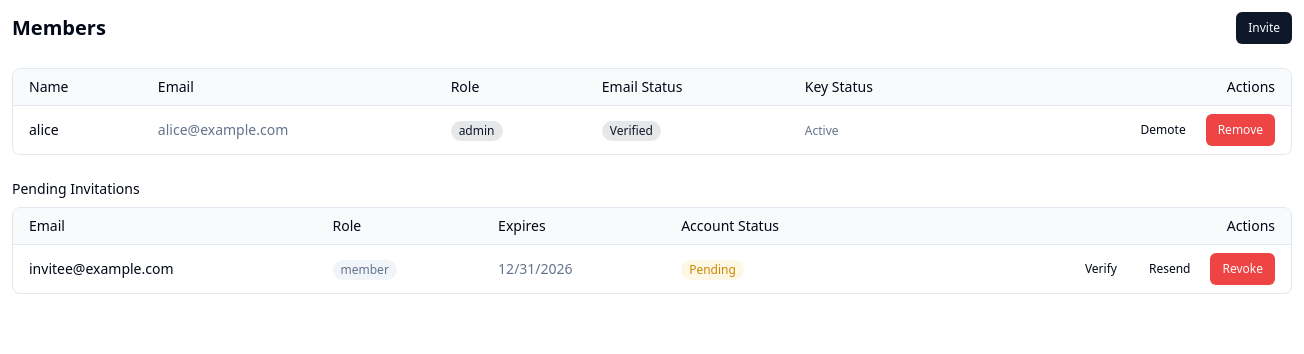
Scenario: OrgMembersTab › falls through to a generic error message on non-422 failures
The image size is (1304, 354).
What coordinates should you click on to do the following:
click the button "Verify"
I would click on:
 (1101, 269)
Its box is [1073, 253, 1129, 285].
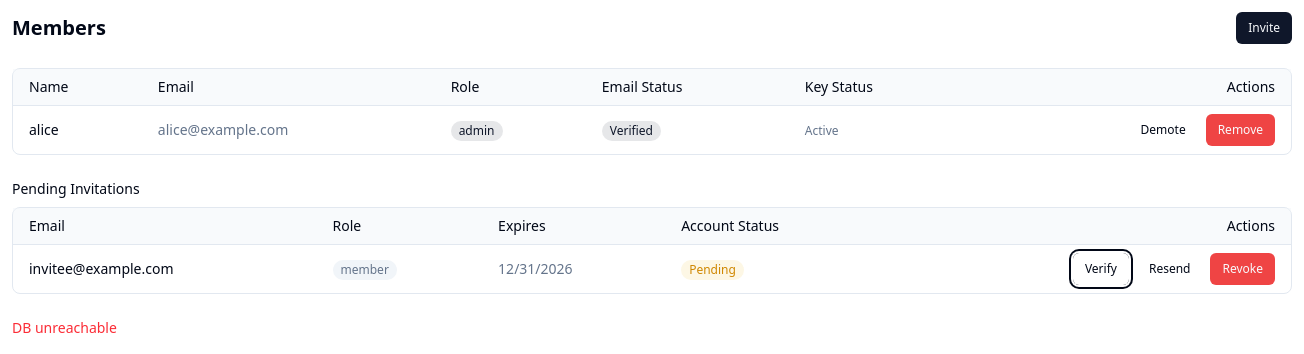
Check: the text "DB unreachable" is shown, box [12, 318, 117, 337]
